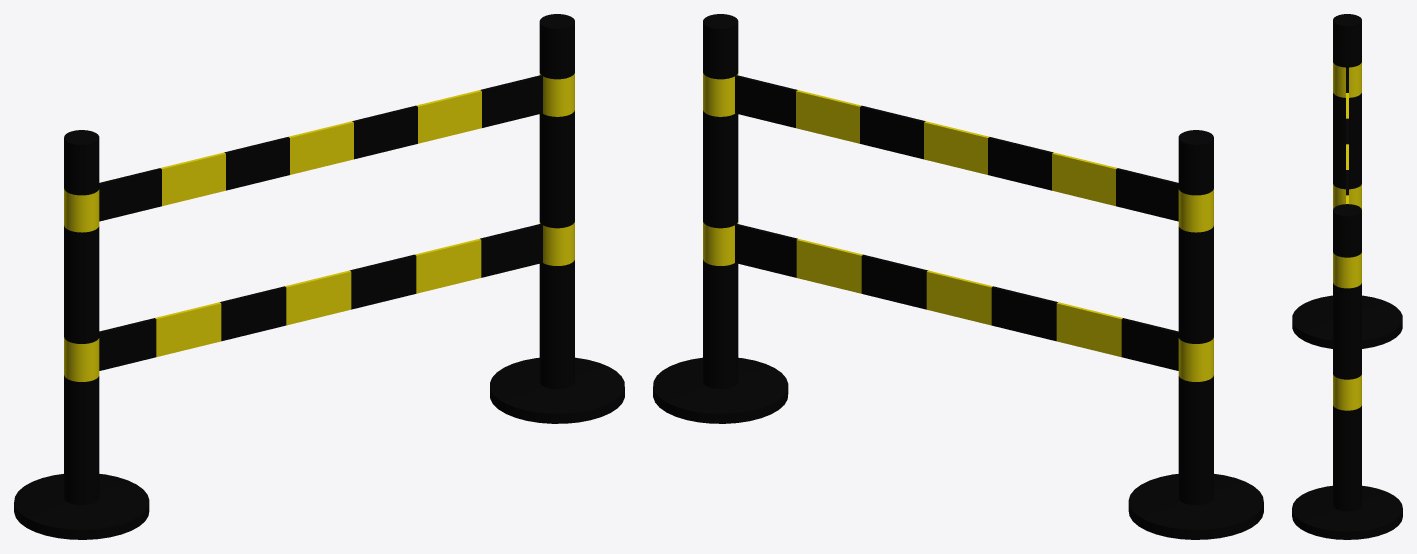
File: cubuklar-busonolsunartik.fbx
The picture shows the model from 3 angles, left to right: view 1: azimuth 30°, elevation 25°; view 2: azimuth 150°, elevation 25°; view 3: azimuth 270°, elevation 25°; orthographic projection. The views are drawn at different scales.
Visible parts, largest first — view 1: Circle.001, Circle.002; view 2: Circle.001, Circle.002; view 3: Circle.002, Circle.001.
Part boxes in pixels (x1,y1,x2,y2): Circle.001: (14,75,542,539); Circle.002: (490,14,624,423); Circle.001: (735,75,1263,539); Circle.002: (653,14,788,423); Circle.002: (1292,204,1402,539); Circle.001: (1292,14,1402,348).
Bounding box in the file's own units: 4.98 × 3.01 × 0.986.
